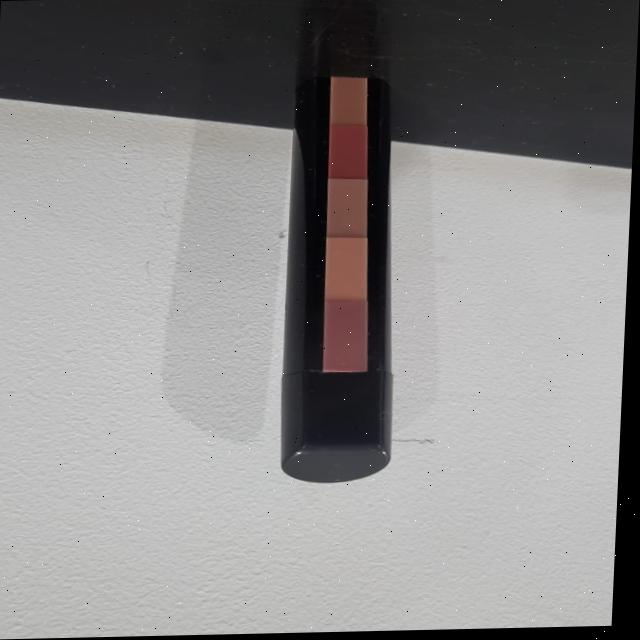lip stick: (261, 42, 461, 502)
